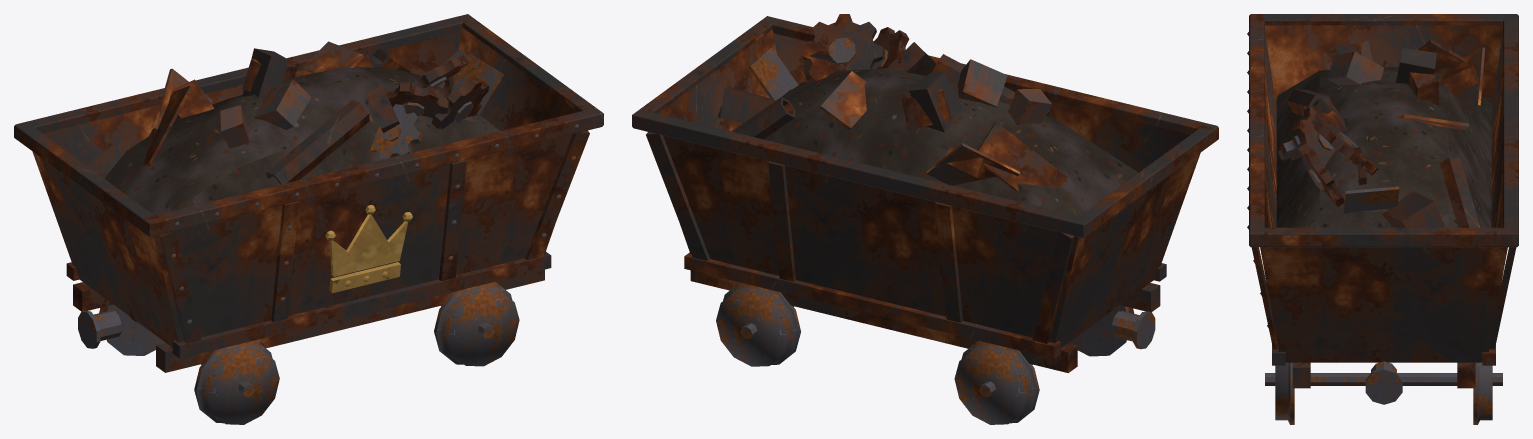
Rendered from Rail_Scrap_Wagon_Full.glb.
3 renders of one model, left to right at view 1: azimuth 30°, elevation 25°; view 2: azimuth 150°, elevation 25°; view 3: azimuth 270°, elevation 25°, orthographic.
Visible parts, largest first — view 1: Rail_Scrap_Wagon_Full; view 2: Rail_Scrap_Wagon_Full; view 3: Rail_Scrap_Wagon_Full.
Part boxes in pixels (x1=…): Rail_Scrap_Wagon_Full: x1=14, y1=14, x2=603, y2=424; Rail_Scrap_Wagon_Full: x1=632, y1=14, x2=1218, y2=424; Rail_Scrap_Wagon_Full: x1=1247, y1=14, x2=1518, y2=424.
Bounding box in the file's own units: 2.28 × 1.45 × 1.19.
Materials: 5 (5 with a texture image).
